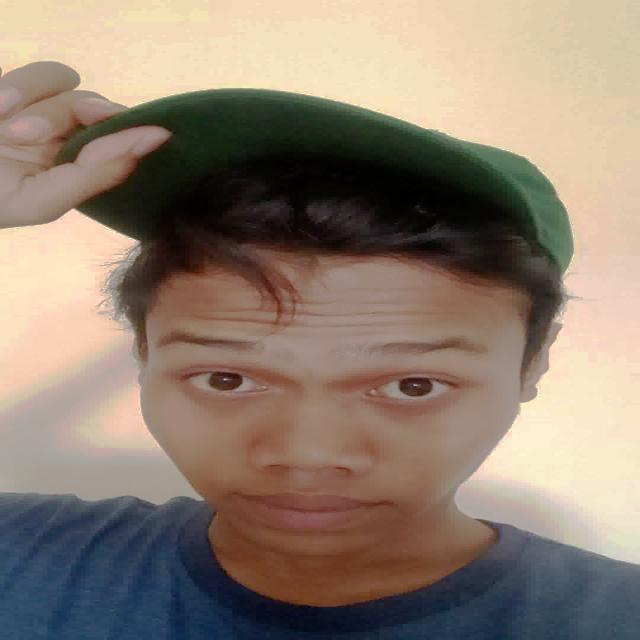TOPI: (26, 77, 610, 270)
